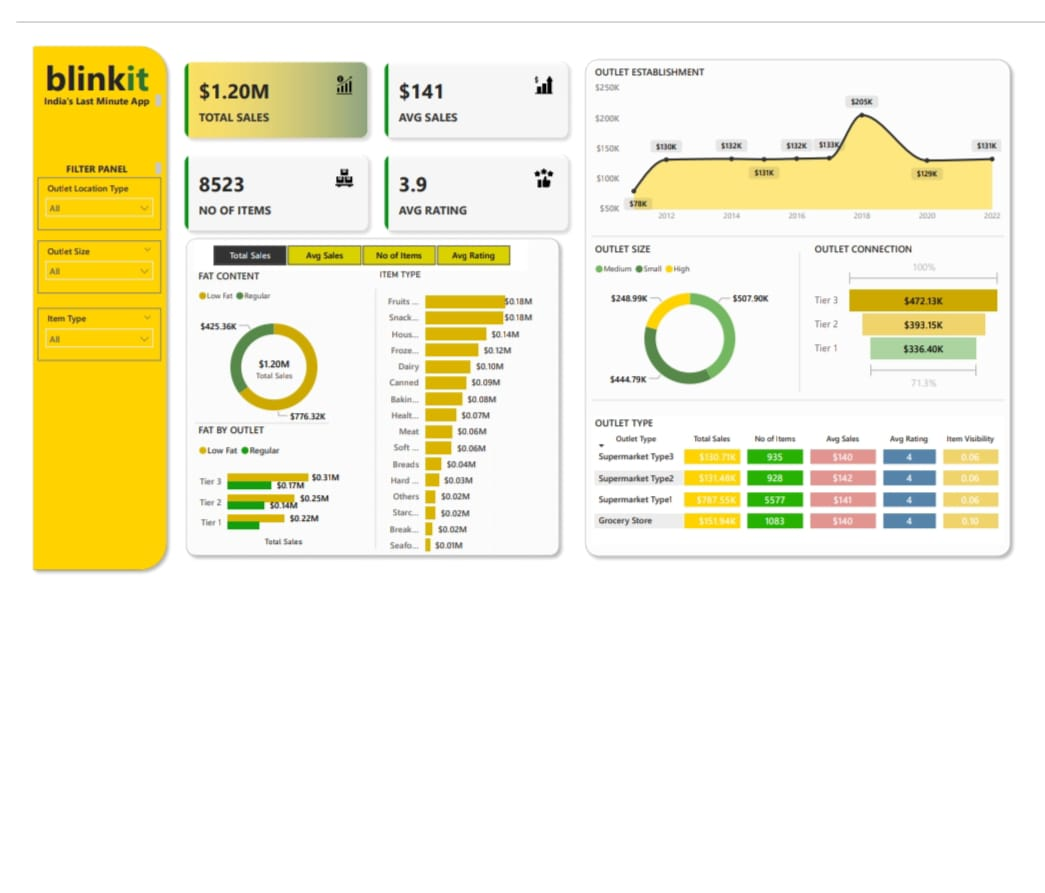

This screenshot's page, from the dashboard's own definition file:
{"tool":"powerbi","page":{"name":"Page 1","canvas":[1400,800],"ordinal":0},"visuals":[{"type":"shape","box":[15,25.5,204.1,750.4],"z":0},{"type":"textbox","box":[25.5,39,175.6,82.5],"z":1000},{"type":"textbox","box":[25.5,96.1,183.1,25.5],"z":2000},{"type":"cardVisual","fields":{"Data":["BlinkIT Grocery Data.Total Sales","BlinkIT Grocery Data.Avg Sales","BlinkIT Grocery Data.No of Items","BlinkIT Grocery Data.Avg Rating"]},"box":[219.1,39,570.3,270.2],"z":3000},{"type":"shape","box":[229.6,294.2,538.8,462.3],"z":4000},{"type":"donutChart","title":" FAT CONTENT","fields":{"Y":["BlinkIT Grocery Data.Total Sales"],"Category":["BlinkIT Grocery Data.Item Fat Content"]},"box":[250.6,346.7,220.6,229.6],"z":5000},{"type":"slicer","fields":{"Values":["Metrics.Metrics"]},"box":[250.6,306.2,465.3,40.5],"z":6000},{"type":"cardVisual","fields":{"Data":["BlinkIT Grocery Data.Total Sales"]},"box":[297.2,451.8,129.1,54],"z":7000},{"type":"clusteredBarChart","title":"FAT BY OUTLET","fields":{"Y":["BlinkIT Grocery Data.Total Sales"],"Category":["BlinkIT Grocery Data.Outlet Location Type"],"Series":["BlinkIT Grocery Data.Item Fat Content"]},"box":[250.6,562.8,207.1,175.6],"z":8000},{"type":"shape","box":[250.6,538.8,187.6,46.5],"z":9000},{"type":"shape","box":[409.7,373.7,187.6,364.7],"z":10000},{"type":"barChart","title":"ITEM TYPE","fields":{"Y":["BlinkIT Grocery Data.Total Sales"],"Category":["BlinkIT Grocery Data.Item Type"]},"box":[504.3,346.7,223.6,409.7],"z":11000},{"type":"shape","box":[789.5,43.5,610.9,712.9],"z":12000},{"type":"lineChart","title":"OUTLET ESTABLISHMENT","fields":{"Y":["BlinkIT Grocery Data.Total Sales"],"Category":["BlinkIT Grocery Data.Outlet Establishment Year"]},"box":[806,60,577.8,228.1],"z":13000},{"type":"shape","box":[806,291.2,577.8,18],"z":14000},{"type":"donutChart","title":"OUTLET SIZE","fields":{"Y":["BlinkIT Grocery Data.Total Sales"],"Category":["BlinkIT Grocery Data.Outlet Size"]},"box":[806,309.2,275,225],"z":15000},{"type":"shape","box":[1080.6,322.7,33,196.6],"z":16000},{"type":"funnel","title":"OUTLET CONNECTION","fields":{"Y":["Sum(BlinkIT Grocery Data.Sales)"],"Category":["BlinkIT Grocery Data.Outlet Location Type"]},"box":[1113.6,309.2,270.2,210.1],"z":17000},{"type":"shape","box":[806,520.8,577.8,18],"z":18000},{"type":"pivotTable","title":"OUTLET TYPE","fields":{"Rows":["BlinkIT Grocery Data.Outlet Type"],"Values":["BlinkIT Grocery Data.Total Sales","BlinkIT Grocery Data.No of Items","BlinkIT Grocery Data.Avg Sales","BlinkIT Grocery Data.Avg Rating","Avg(BlinkIT Grocery Data.Item Visibility)"]},"box":[806,552.3,577.8,178.6],"z":19000},{"type":"slicer","fields":{"Values":["BlinkIT Grocery Data.Outlet Location Type"]},"box":[30,217.6,172.6,73.5],"z":20000},{"type":"slicer","fields":{"Values":["BlinkIT Grocery Data.Outlet Size"]},"box":[30,306.2,172.6,73.5],"z":20001},{"type":"slicer","fields":{"Values":["BlinkIT Grocery Data.Item Type"]},"box":[30,400.7,172.6,73.5],"z":20002},{"type":"textbox","box":[25.5,192.1,183.1,25.5],"z":20003}]}

Visuals, with their boxes on the page's 1400x800 design canvas (x1, y1, x2, y2). These are canvas units, not pixel positions in the 1045x893 screenshot, which may show the page scaled, cropped or inside an application window:
shape: 15:26:219:776
textbox: 26:39:201:122
textbox: 26:96:209:122
cardVisual - BlinkIT Grocery Data.Total Sales x BlinkIT Grocery Data.Avg Sales: 219:39:789:309
shape: 230:294:768:756
" FAT CONTENT" donutChart: 251:347:471:576
slicer - Metrics.Metrics: 251:306:716:347
cardVisual - BlinkIT Grocery Data.Total Sales: 297:452:426:506
"FAT BY OUTLET" clusteredBarChart: 251:563:458:738
shape: 251:539:438:585
shape: 410:374:597:738
"ITEM TYPE" barChart: 504:347:728:756
shape: 790:44:1400:756
"OUTLET ESTABLISHMENT" lineChart: 806:60:1384:288
shape: 806:291:1384:309
"OUTLET SIZE" donutChart: 806:309:1081:534
shape: 1081:323:1114:519
"OUTLET CONNECTION" funnel: 1114:309:1384:519
shape: 806:521:1384:539
"OUTLET TYPE" pivotTable: 806:552:1384:731
slicer - BlinkIT Grocery Data.Outlet Location Type: 30:218:203:291
slicer - BlinkIT Grocery Data.Outlet Size: 30:306:203:380
slicer - BlinkIT Grocery Data.Item Type: 30:401:203:474
textbox: 26:192:209:218
